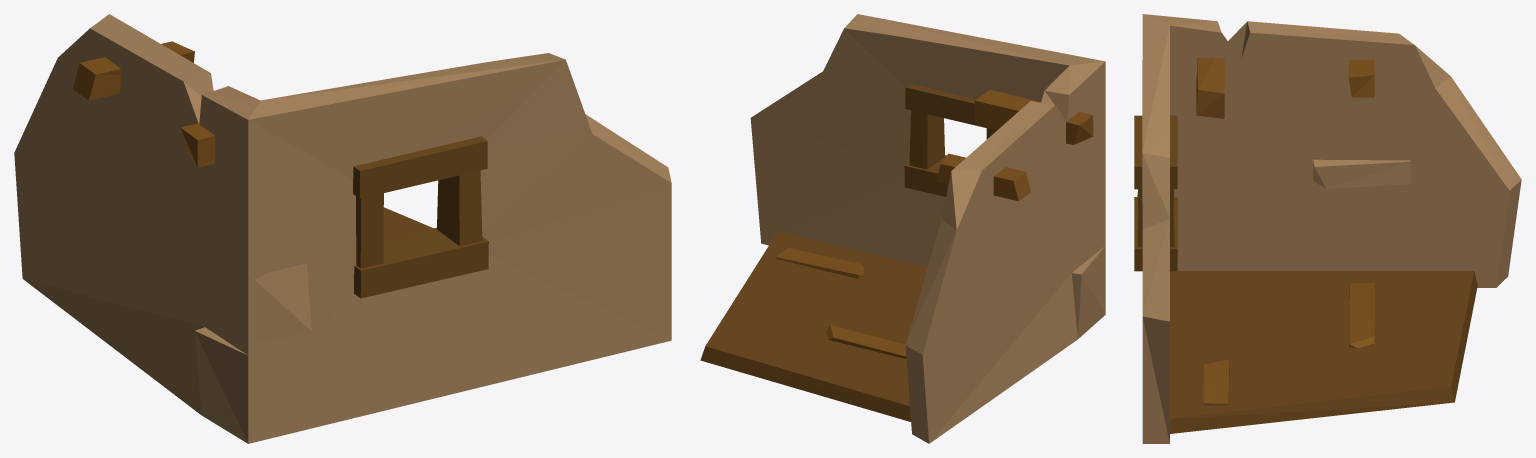
Rendered from Flat_Wall_03.fbx.
3 views of the same model, side by side, from view 1: azimuth 30°, elevation 25°; view 2: azimuth 150°, elevation 25°; view 3: azimuth 270°, elevation 25° (orthographic). The views are drawn at different scales.
Parts seen in each view (by area): view 1: Wall_03; view 2: Wall_03; view 3: Wall_03.
Boxes of the visible parts, x1,y1,x2,y2 form: Wall_03: (14, 14, 671, 443); Wall_03: (700, 14, 1105, 443); Wall_03: (1134, 14, 1521, 443).
Size of the model in its own units: 645 by 426 by 569.
